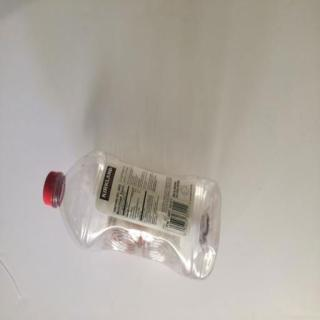Plastic-bottle: (43, 148, 224, 282)
